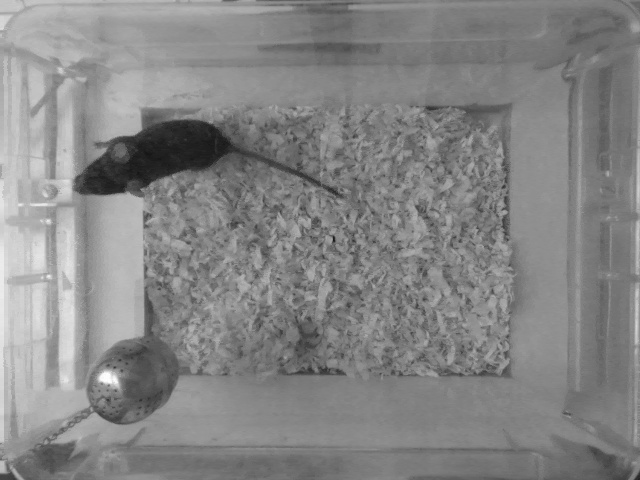mice: (72, 115, 347, 200)
